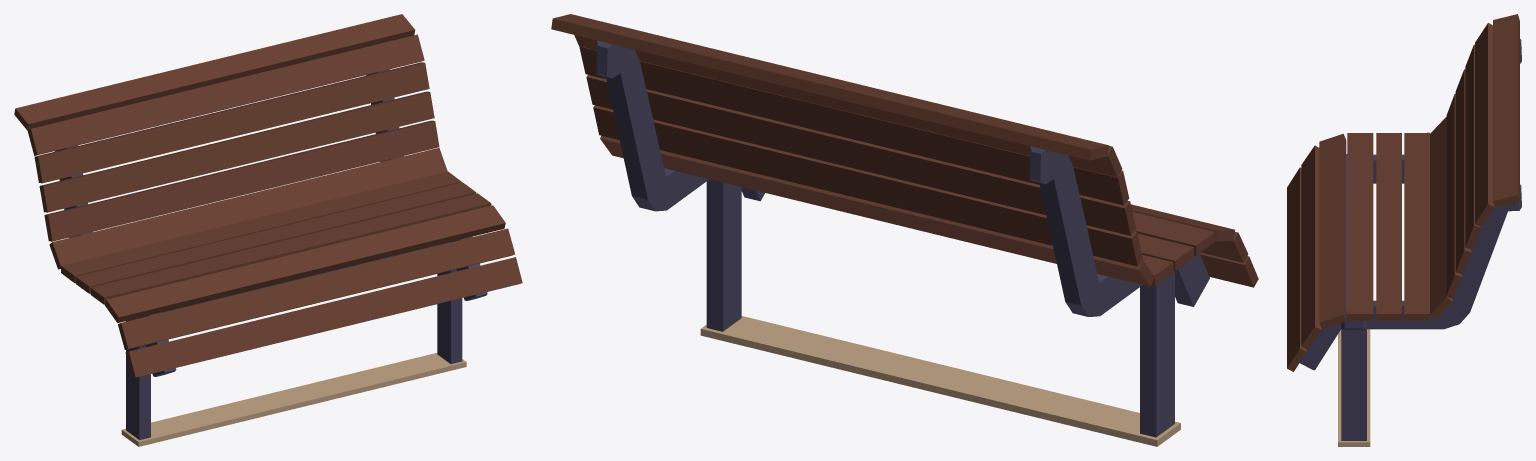
Rendered from Puisto_Penkki.fbx.
3 renders of one model, left to right at view 1: azimuth 30°, elevation 25°; view 2: azimuth 150°, elevation 25°; view 3: azimuth 270°, elevation 25°, orthographic. The views are drawn at different scales.
Visible parts, largest first — view 1: PuistoPenkki; view 2: PuistoPenkki; view 3: PuistoPenkki.
Boxes of the visible parts, box(x1,y1,x2,y2) form: PuistoPenkki: box(14, 14, 522, 446); PuistoPenkki: box(551, 14, 1258, 446); PuistoPenkki: box(1287, 14, 1521, 446).
Size of the model in its own units: 167 by 114 by 91.35.
